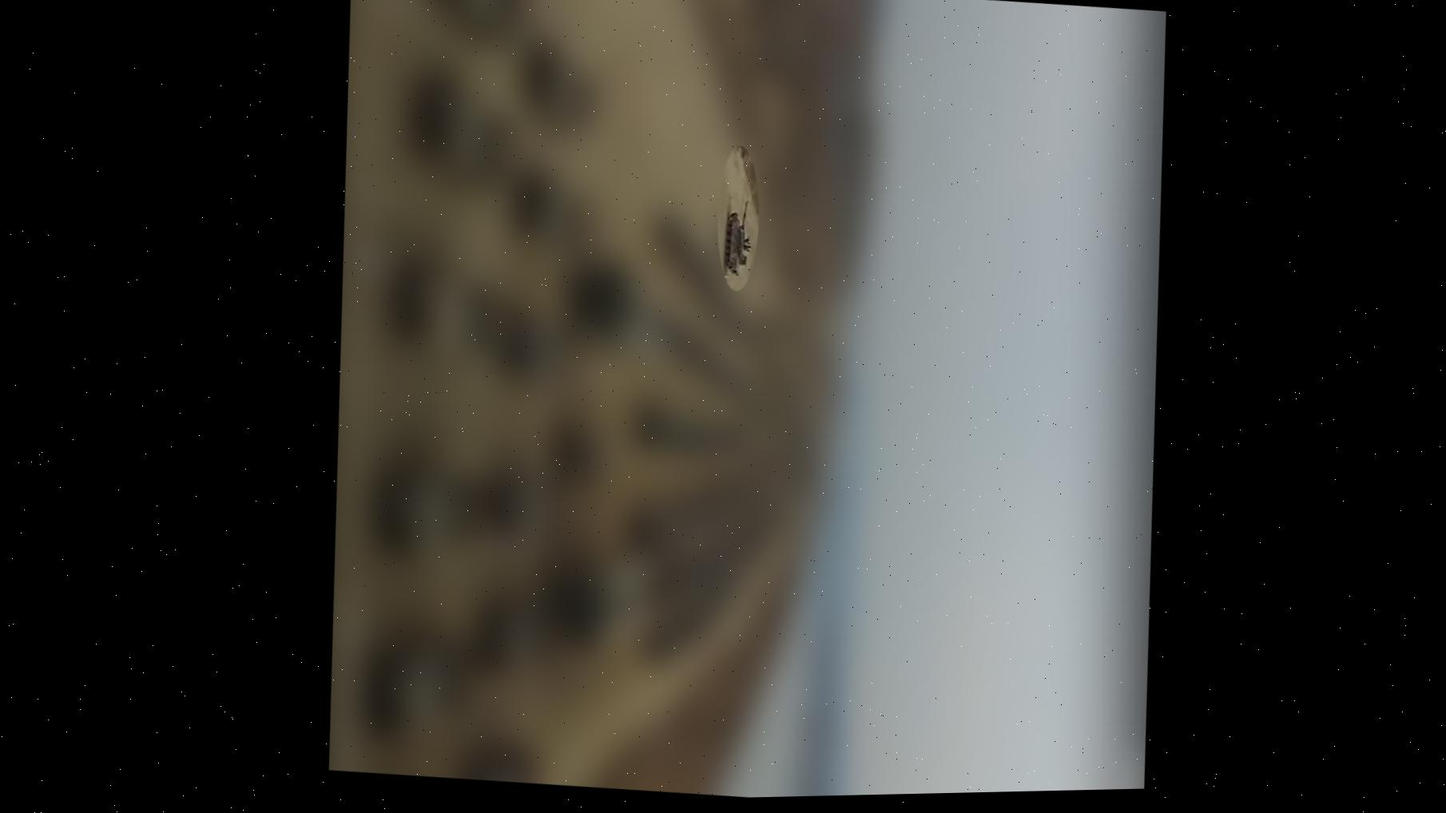tank: (712, 177, 766, 284)
